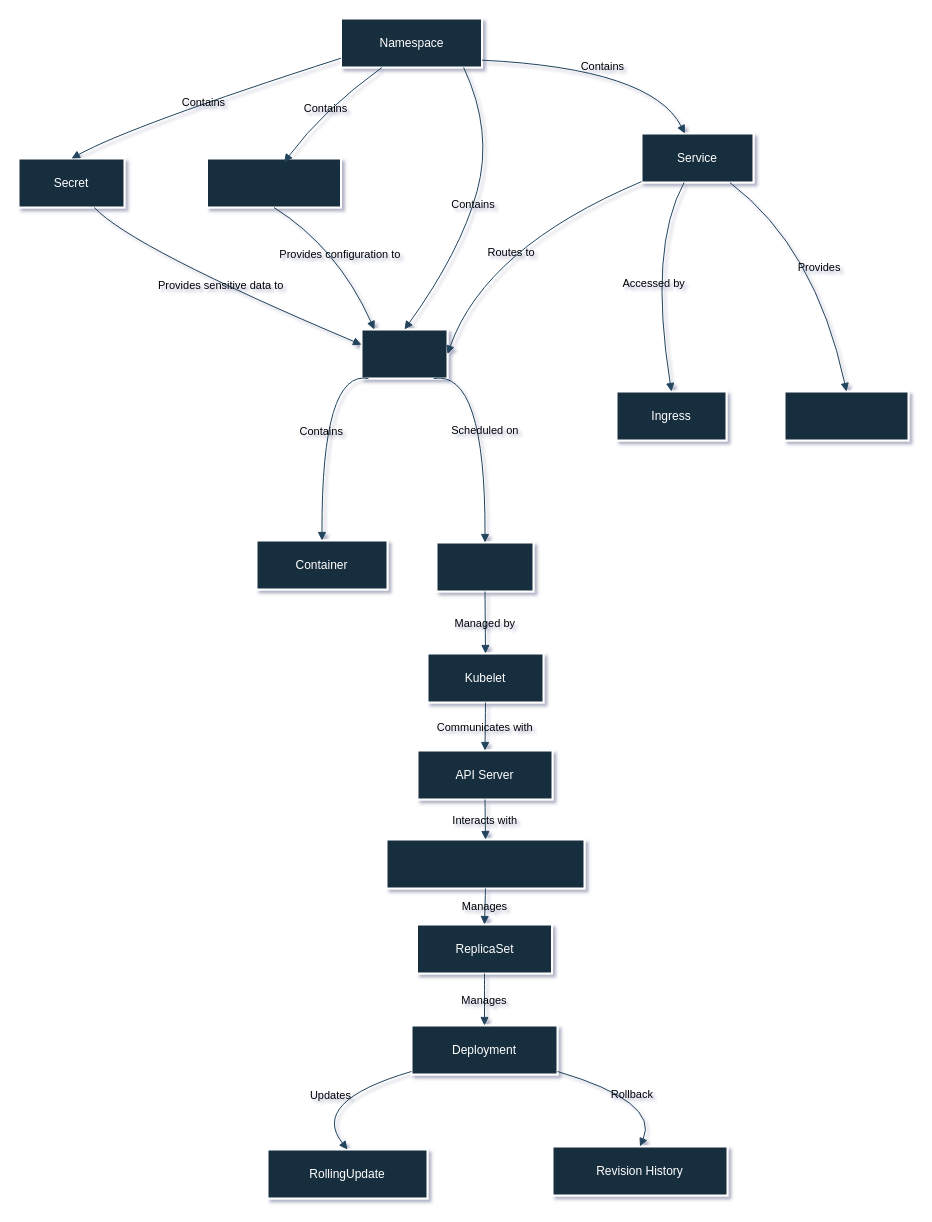
Image size: 932x1222. Some labels were removed from this diagram. Here are the shapes that lost their labels. From the top down, the centre of each, then its label:
[274,182]: ConfigMap
[404,353]: Pod
[846,415]: Endpoint
[484,566]: Node
[485,863]: Controller Manager
